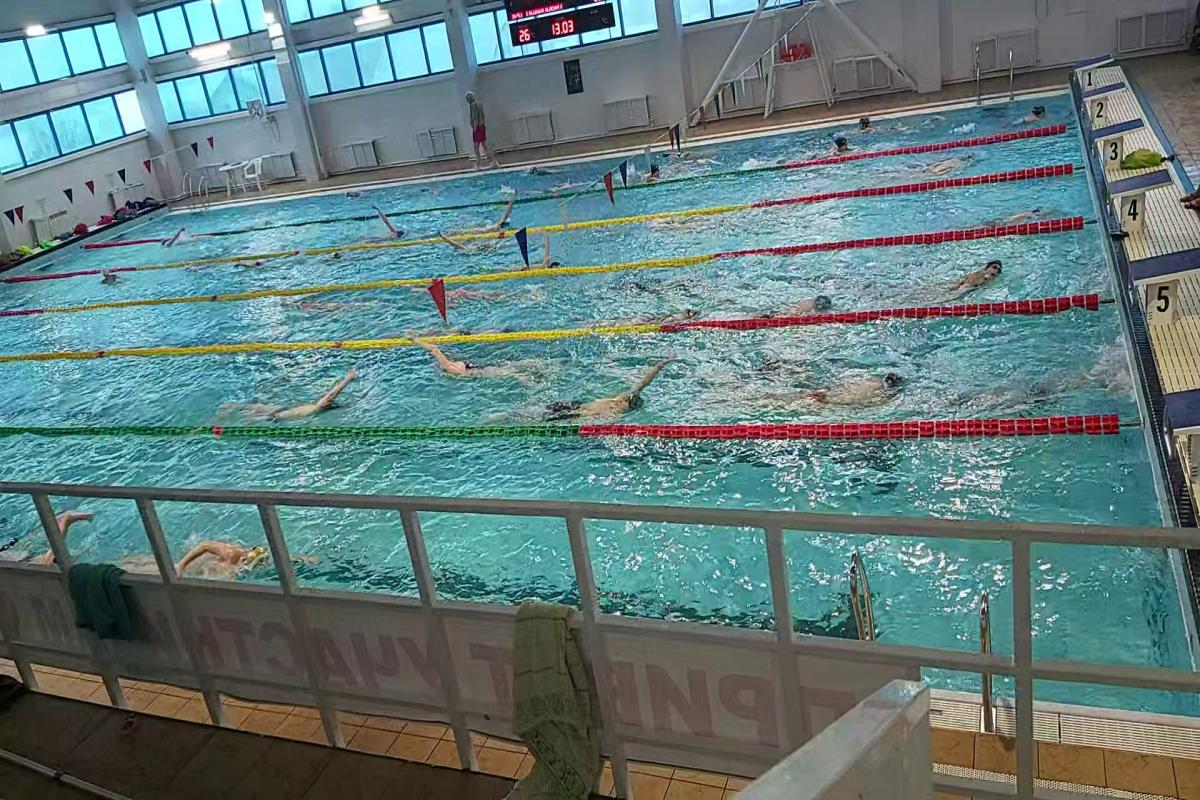swimmer: (778, 363, 918, 417), (120, 536, 272, 582), (224, 373, 358, 423), (415, 341, 547, 383), (527, 387, 647, 424), (947, 253, 1007, 297), (291, 295, 383, 315), (772, 293, 843, 318), (446, 283, 529, 304), (438, 239, 510, 260), (469, 207, 522, 232), (914, 154, 980, 174), (376, 219, 412, 239)
